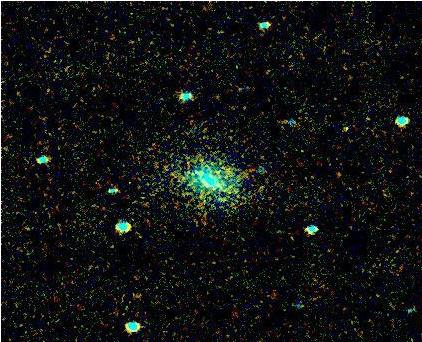star: (354, 104, 384, 134)
